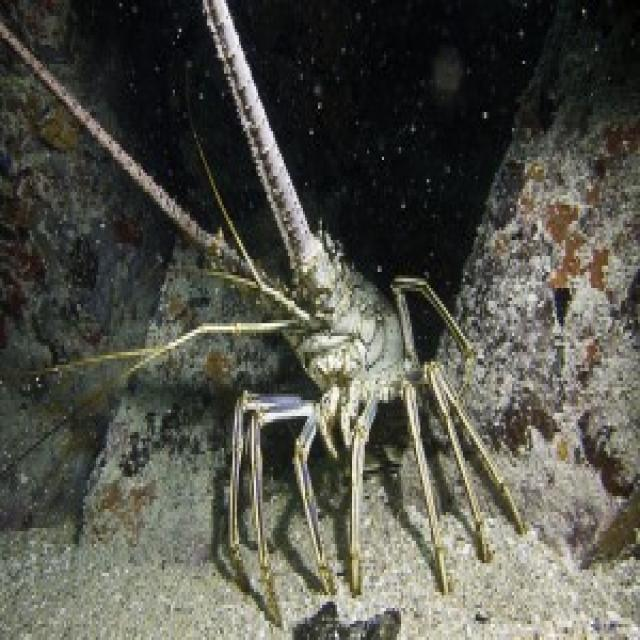lobsters: (47, 0, 589, 640)
